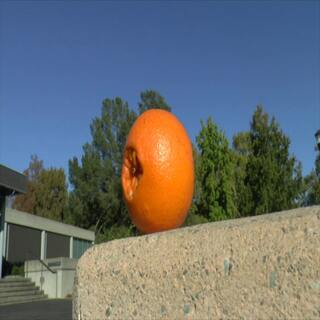orange: (107, 101, 206, 247)
